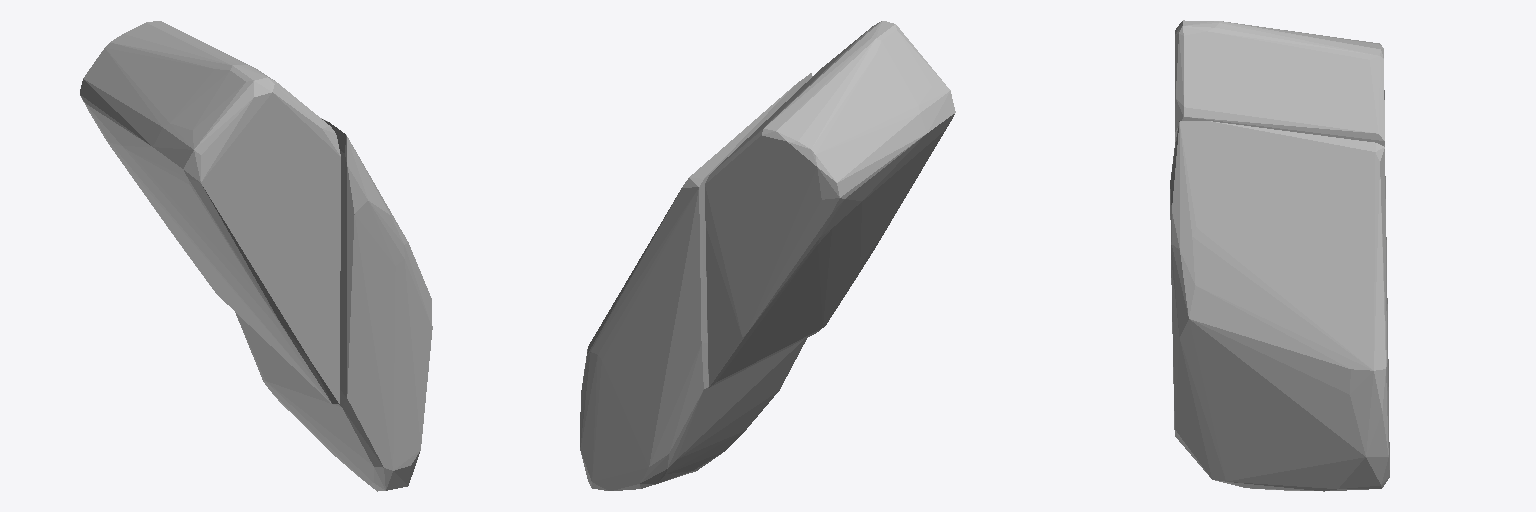
URDF robot description (root):
<robot name="root">
  <link name="link_rock12_convex_piece_0">
    <inertial>
      <origin rpy="0 0 0" xyz="0 0 0"/>
      <mass value="9.88E+04"/>
      <inertia ixx="2.01E+09" ixy="6.34E+08" ixz="-1.59E+09" iyy="3.23E+09" iyz="-7.83E+08" izz="1.50E+09"/>
    </inertial>
    <visual>
      <origin rpy="0 0 0" xyz="0 0 0"/>
      <geometry>
        <mesh filename="rock12_convex_piece_0.obj" scale="1.0000E+00 1.0000E+00 1.0000E+00"/>
      </geometry>
      <material name="">
        <color rgba="7.50E-01 7.50E-01 7.50E-01 1"/>
      </material>
    </visual>
    <collision>
      <origin rpy="0 0 0" xyz="0 0 0"/>
      <geometry>
        <mesh filename="rock12_convex_piece_0.obj" scale="1.0000E+00 1.0000E+00 1.0000E+00"/>
      </geometry>
    </collision>
  </link>
  <link name="link_rock12_convex_piece_1">
    <inertial>
      <origin rpy="0 0 0" xyz="0 0 0"/>
      <mass value="1.05E+05"/>
      <inertia ixx="-1.88E+09" ixy="-6.01E+08" ixz="1.54E+09" iyy="-3.08E+09" iyz="8.11E+08" izz="-1.32E+09"/>
    </inertial>
    <visual>
      <origin rpy="0 0 0" xyz="0 0 0"/>
      <geometry>
        <mesh filename="rock12_convex_piece_1.obj" scale="1.0000E+00 1.0000E+00 1.0000E+00"/>
      </geometry>
      <material name="">
        <color rgba="7.50E-01 7.50E-01 7.50E-01 1"/>
      </material>
    </visual>
    <collision>
      <origin rpy="0 0 0" xyz="0 0 0"/>
      <geometry>
        <mesh filename="rock12_convex_piece_1.obj" scale="1.0000E+00 1.0000E+00 1.0000E+00"/>
      </geometry>
    </collision>
  </link>
  <joint name="link_rock12_convex_piece_1_joint" type="fixed">
    <origin rpy="0 0 0" xyz="0 0 0"/>
    <parent link="link_rock12_convex_piece_0"/>
    <child link="link_rock12_convex_piece_1"/>
  </joint>
</robot>

--- Facts derived from the render (not from the file) ---
3 views of the same robot in one strip: view 1: azimuth 30°, elevation 25°; view 2: azimuth 150°, elevation 25°; view 3: azimuth 270°, elevation 25° (orthographic).
Model root with 2 links and 1 joints (1 fixed), rooted at link_rock12_convex_piece_0, posed all joints at 0.
Visible links, largest first — view 1: link_rock12_convex_piece_0, link_rock12_convex_piece_1; view 2: link_rock12_convex_piece_0, link_rock12_convex_piece_1; view 3: link_rock12_convex_piece_1, link_rock12_convex_piece_0.
Boxes of the visible links, x1,y1,x2,y2 form: link_rock12_convex_piece_0: (80, 21, 340, 403); link_rock12_convex_piece_1: (235, 118, 432, 491); link_rock12_convex_piece_0: (705, 21, 955, 387); link_rock12_convex_piece_1: (580, 73, 812, 490); link_rock12_convex_piece_1: (1170, 121, 1389, 491); link_rock12_convex_piece_0: (1175, 20, 1384, 146).
Bounding box of the posed robot: 80.18 × 63.01 × 127 m (x, y, z).
Meshes: 2 distinct files referenced, 2 mesh visuals loaded (2 OBJ).